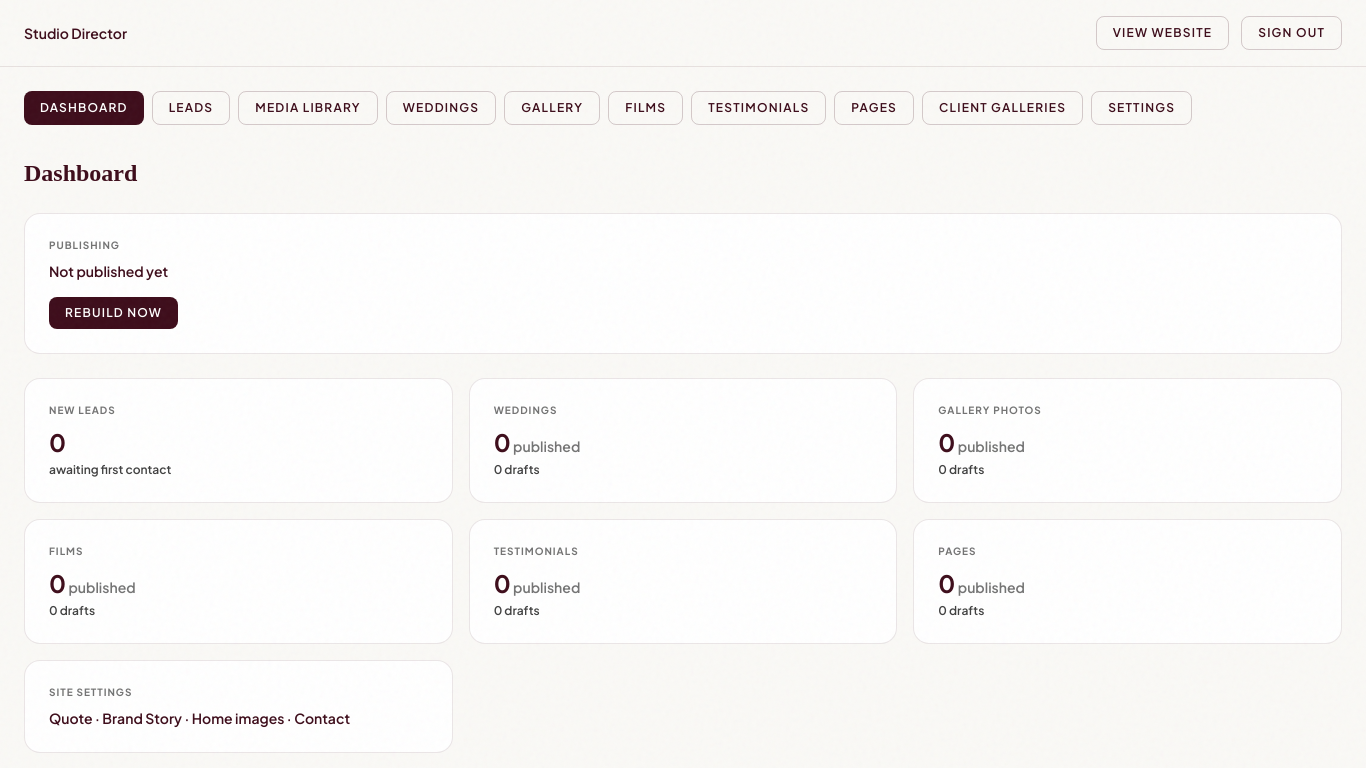
it: admin App shell › lands on the dashboard overview by default, leads only on request
Expected: the heading "Dashboard" is shown, top-left (24, 160), bottom-right (137, 186)
Click the button "Leads".
click(191, 108)  # box top-left (152, 91), bottom-right (230, 125)
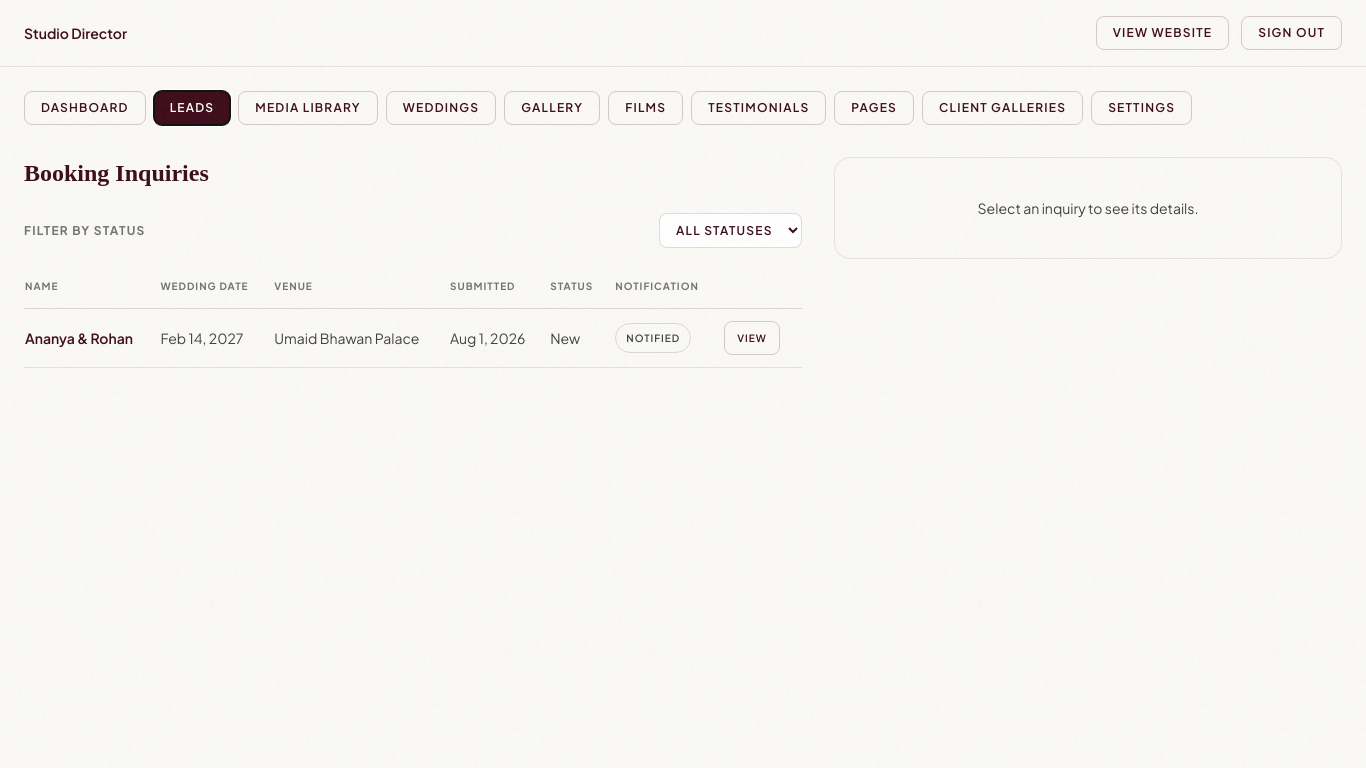
Expected: the heading "Booking Inquiries" is shown, top-left (24, 160), bottom-right (209, 186)
Expected: the text "Ananya & Rohan" is shown, top-left (24, 308), bottom-right (159, 368)
